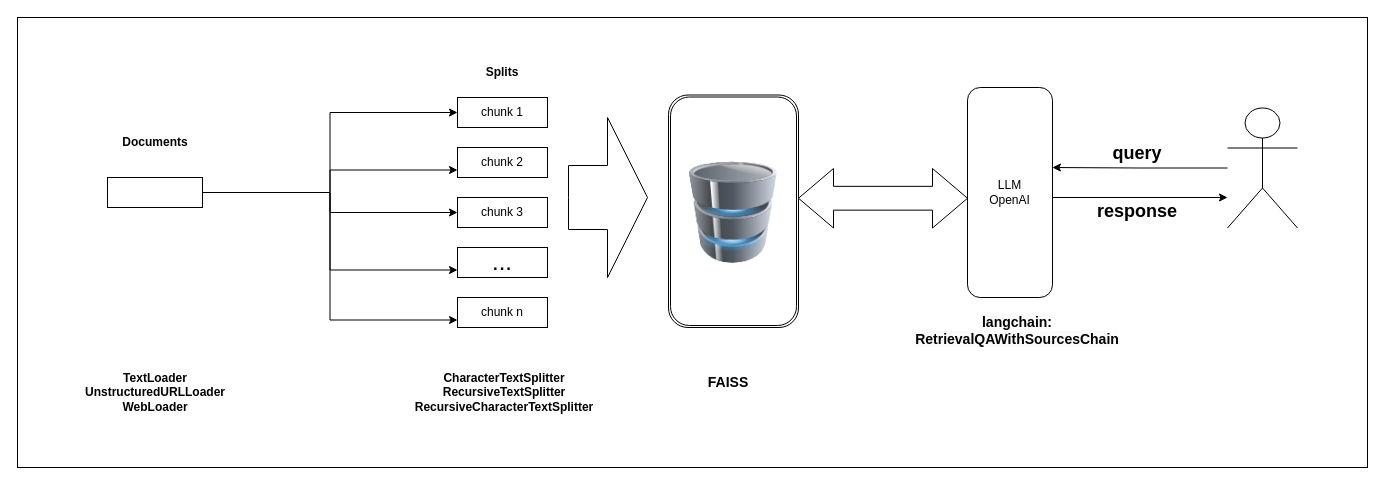
The diagram is 1385 pixels wide and 485 high, and some of its shapes have lost their labels. The box of each missing label's shape, as (x1, y1, x2, y2) in pixels:
Actor: (1226, 107, 1298, 228)
urls: (106, 176, 202, 208)
Vector DB: (689, 62, 777, 362)
